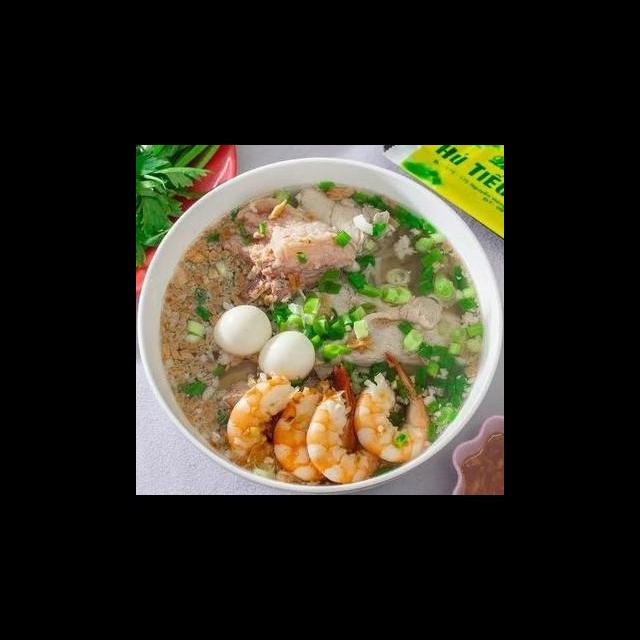thit bam: (405, 362, 476, 419)
thit heo: (272, 275, 475, 373), (289, 182, 402, 262)
tom: (266, 358, 365, 484), (224, 370, 326, 484), (303, 360, 391, 486), (349, 349, 436, 467)
trung: (211, 302, 275, 360), (254, 327, 318, 384)
